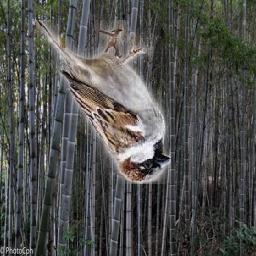Sparrow: (37, 20, 172, 184)
